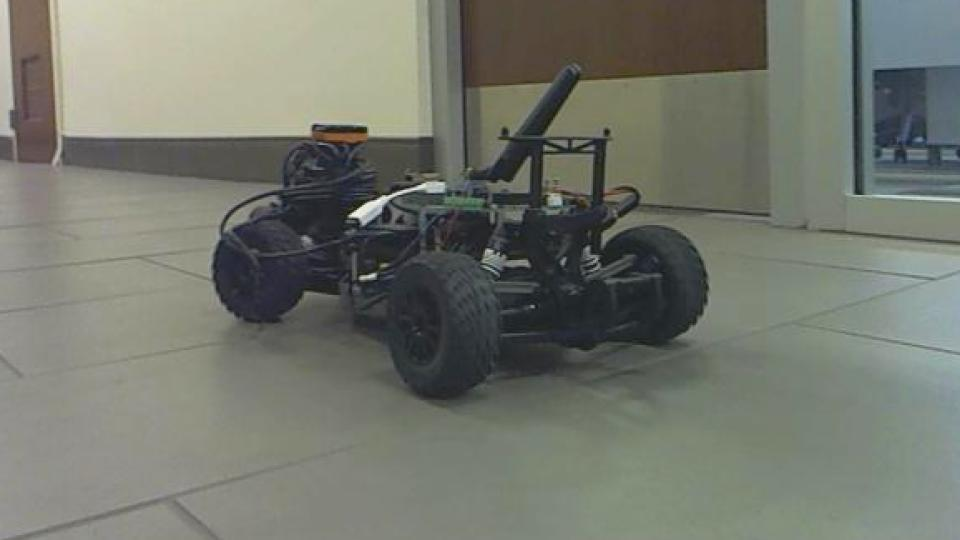car: (209, 60, 714, 402)
